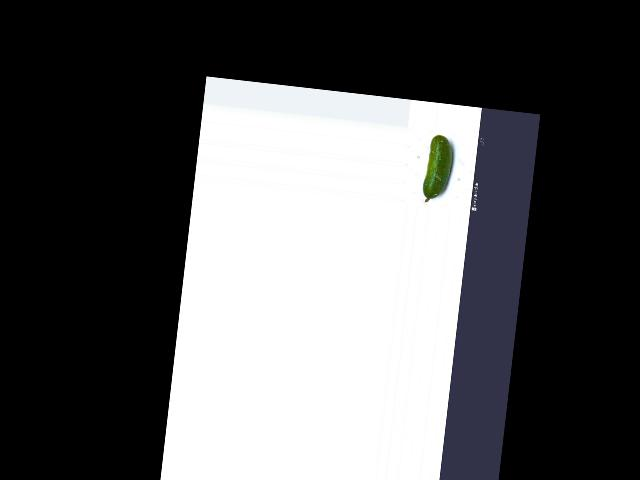cucumber: (421, 133, 454, 204)
